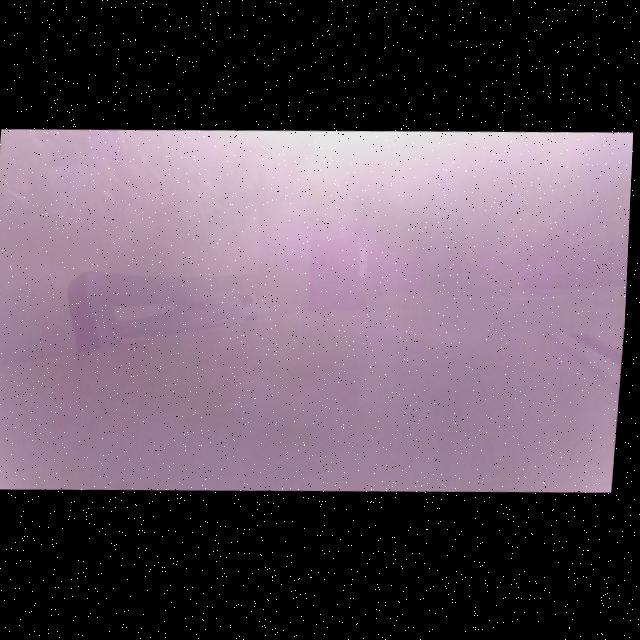H: (363, 253, 368, 275)
